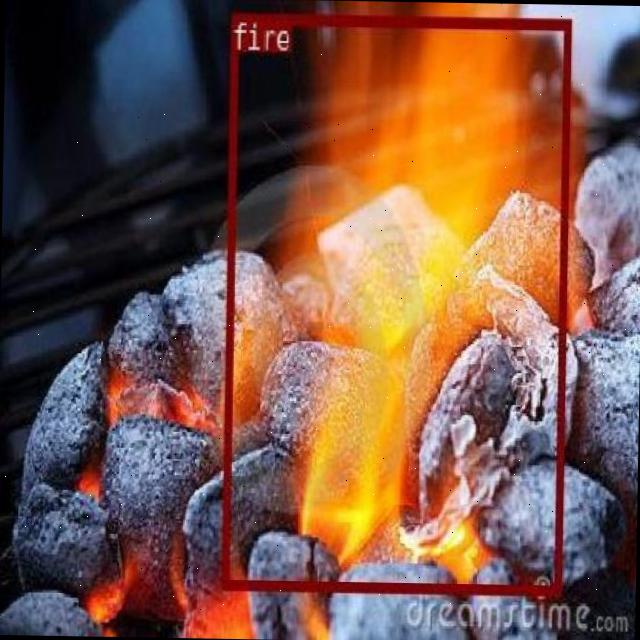fire: (222, 11, 570, 594)
